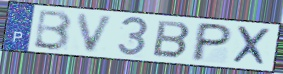3: (116, 15, 150, 59)
B: (31, 9, 74, 52), (150, 18, 193, 60)
P: (189, 21, 236, 63)
V: (76, 12, 118, 54)
X: (230, 24, 273, 68)
